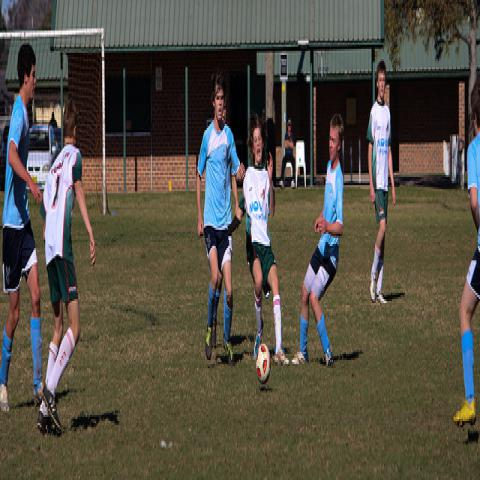car: (27, 120, 59, 191)
